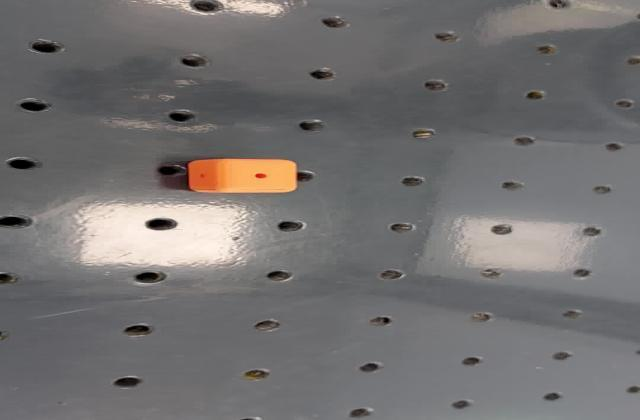cube: (182, 156, 302, 196)
